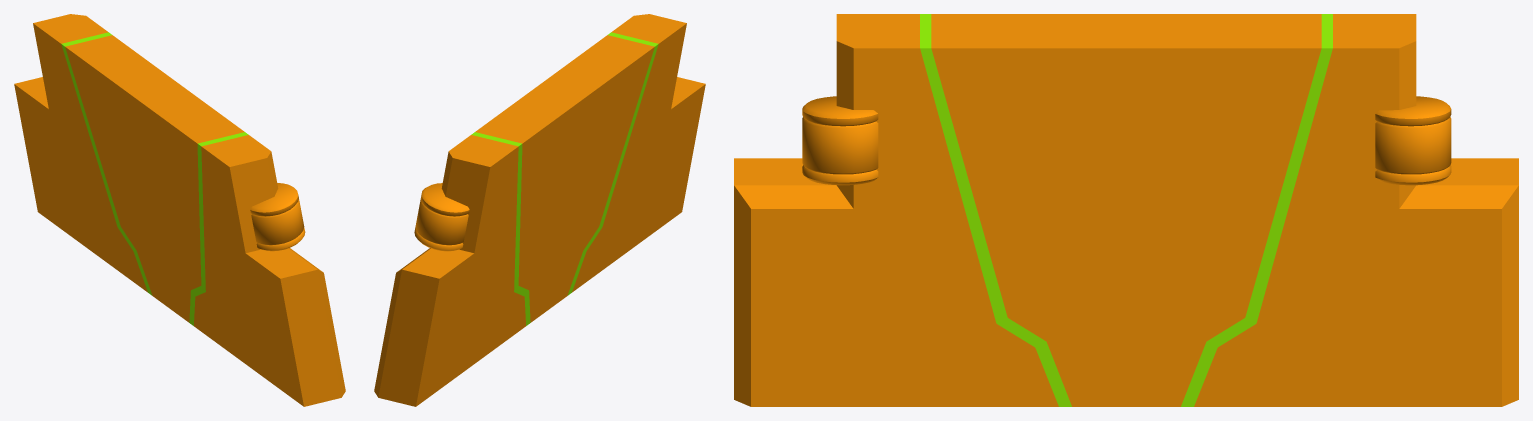
File: Building_Baffle_Metal_04a_snaps016.fbx
3 renders of one model, left to right at view 1: azimuth 30°, elevation 25°; view 2: azimuth 150°, elevation 25°; view 3: azimuth 270°, elevation 25°, orthographic. The views are drawn at different scales.
Parts seen in each view (by area): view 1: Building_Baffle_Metal_04a_snaps016_LOD0; view 2: Building_Baffle_Metal_04a_snaps016_LOD0; view 3: Building_Baffle_Metal_04a_snaps016_LOD0.
Part boxes in pixels (bbox=[...]): Building_Baffle_Metal_04a_snaps016_LOD0: bbox=[14, 14, 345, 406]; Building_Baffle_Metal_04a_snaps016_LOD0: bbox=[374, 14, 705, 406]; Building_Baffle_Metal_04a_snaps016_LOD0: bbox=[734, 14, 1518, 406].
Size of what is drawn, in the model's own units: 0.7881 by 1.93 by 4.17.
